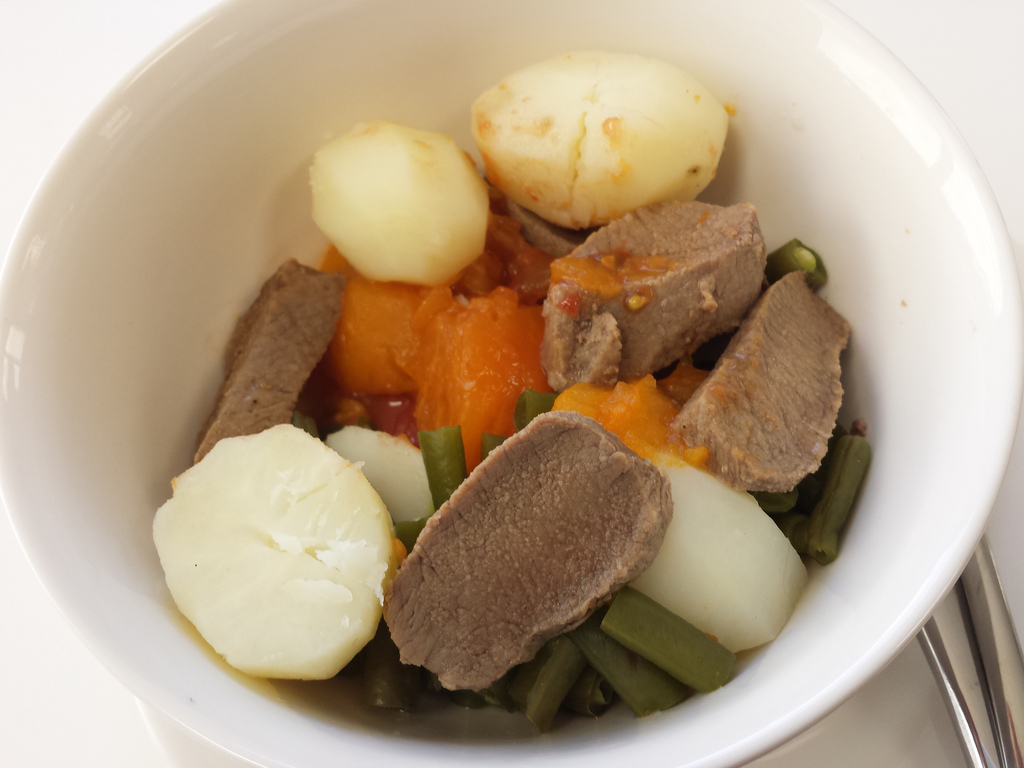boiled potatoes: (163, 458, 388, 666), (491, 55, 734, 191), (317, 130, 506, 279)
